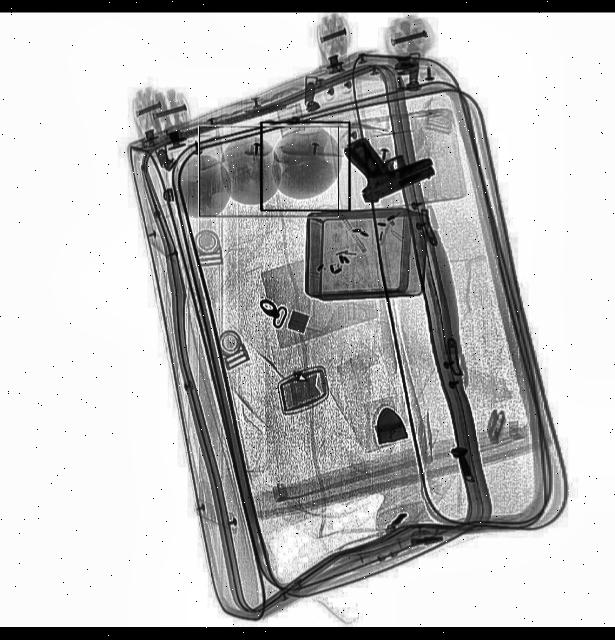Gun: (346, 120, 437, 203)
